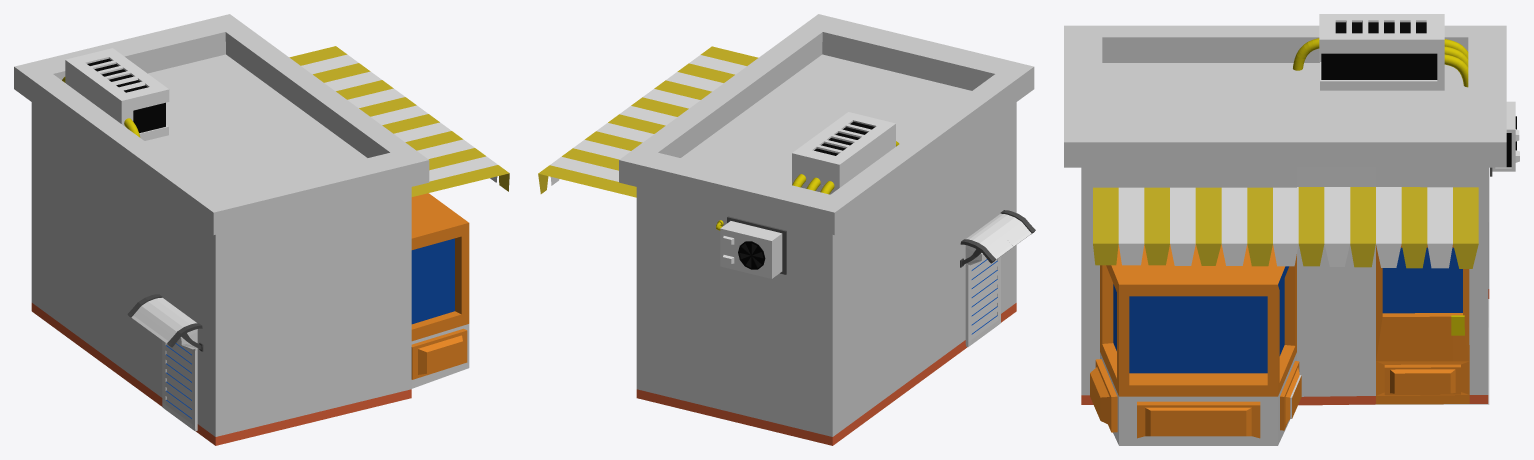
The model's file is Negocio 2.fbx.
The picture shows the model from 3 angles, left to right: view 1: azimuth 30°, elevation 25°; view 2: azimuth 150°, elevation 25°; view 3: azimuth 270°, elevation 25°; orthographic projection. The views are drawn at different scales.
Parts seen in each view (by area): view 1: Negocio 2; view 2: Negocio 2; view 3: Negocio 2.
Part boxes in pixels (x1=…): Negocio 2: x1=14, y1=14, x2=509, y2=445; Negocio 2: x1=538, y1=14, x2=1035, y2=445; Negocio 2: x1=1064, y1=14, x2=1519, y2=445.
Size of the model in its own units: 578 by 439 by 620.
